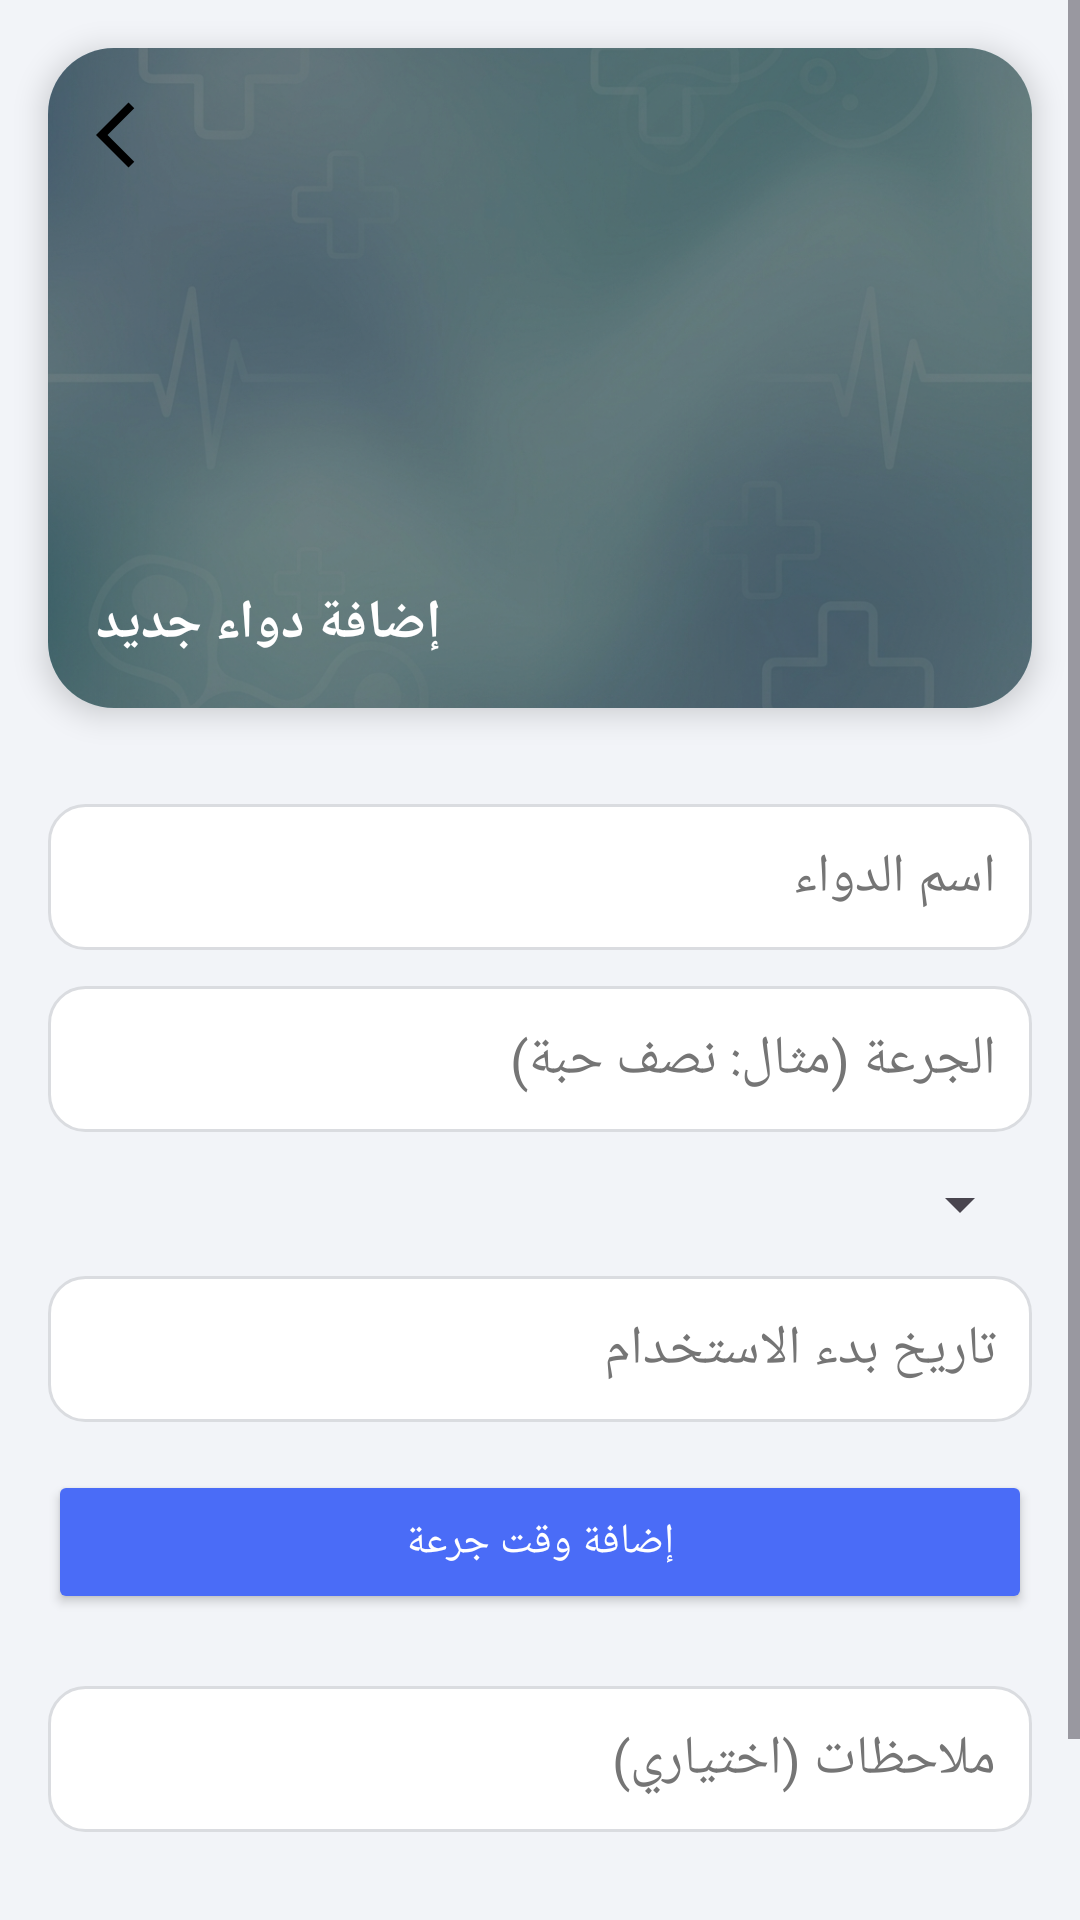

Where icons sit on this 1080*1920 app screen, as (x1, y1, x2, y2):
back: (96, 102, 134, 168)
